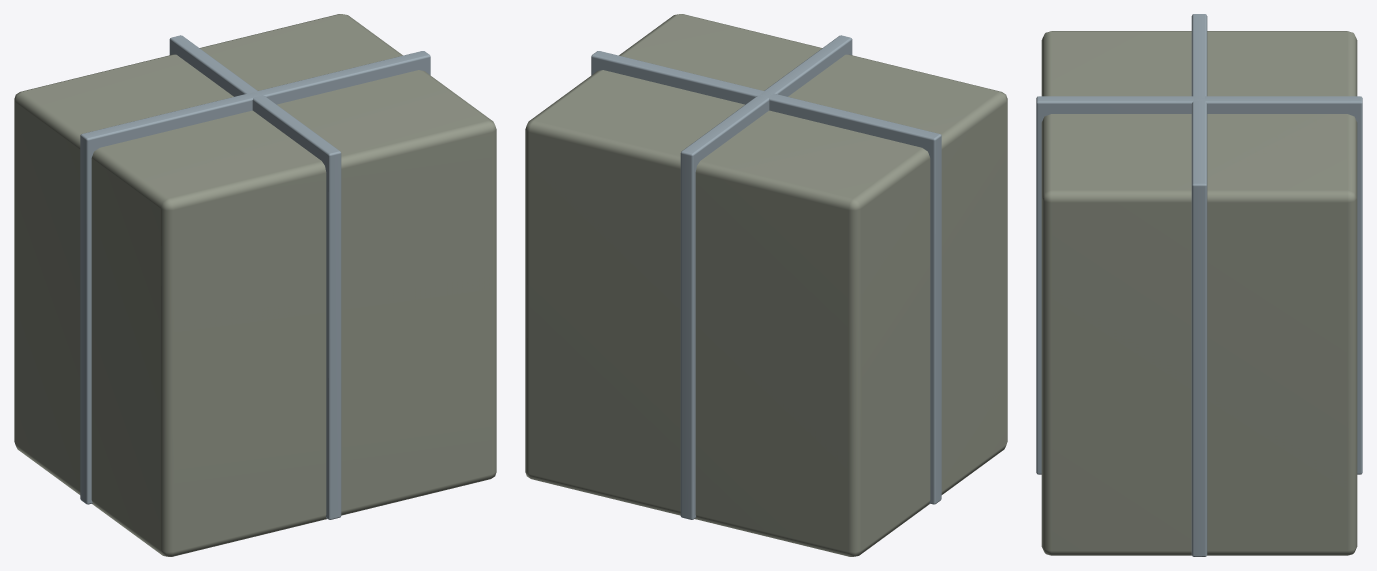
Rendered from crate.glb.
3 renders of one model, left to right at view 1: azimuth 30°, elevation 25°; view 2: azimuth 150°, elevation 25°; view 3: azimuth 270°, elevation 25°, orthographic.
Parts seen in each view (by area): view 1: CrateBody, CrateBandB, CrateBandA; view 2: CrateBody, CrateBandB, CrateBandA; view 3: CrateBody, CrateBandA, CrateBandB.
Part boxes in pixels (x1=…): CrateBody: x1=14, y1=14, x2=496, y2=556; CrateBandB: x1=80, y1=51, x2=430, y2=504; CrateBandA: x1=169, y1=35, x2=341, y2=519; CrateBody: x1=525, y1=14, x2=1007, y2=556; CrateBandB: x1=591, y1=51, x2=941, y2=504; CrateBandA: x1=680, y1=35, x2=852, y2=519; CrateBody: x1=1041, y1=31, x2=1357, y2=555; CrateBandA: x1=1036, y1=96, x2=1362, y2=474; CrateBandB: x1=1191, y1=14, x2=1207, y2=556.
Size of the model in its own units: 0.925 by 0.95 by 0.745.
